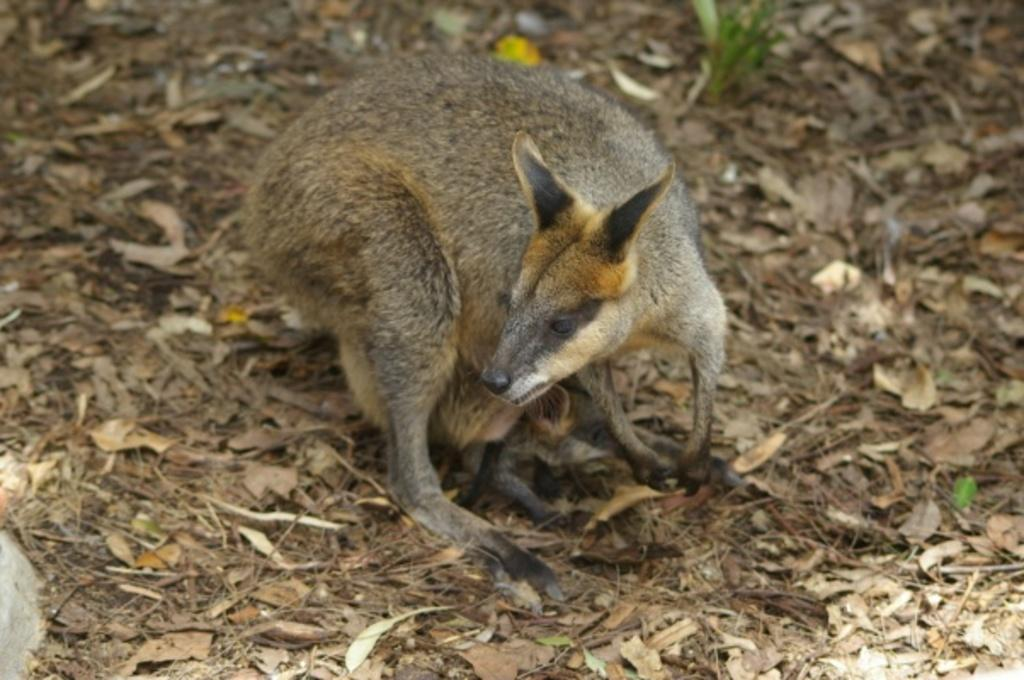kangaroo: (243, 54, 764, 607)
